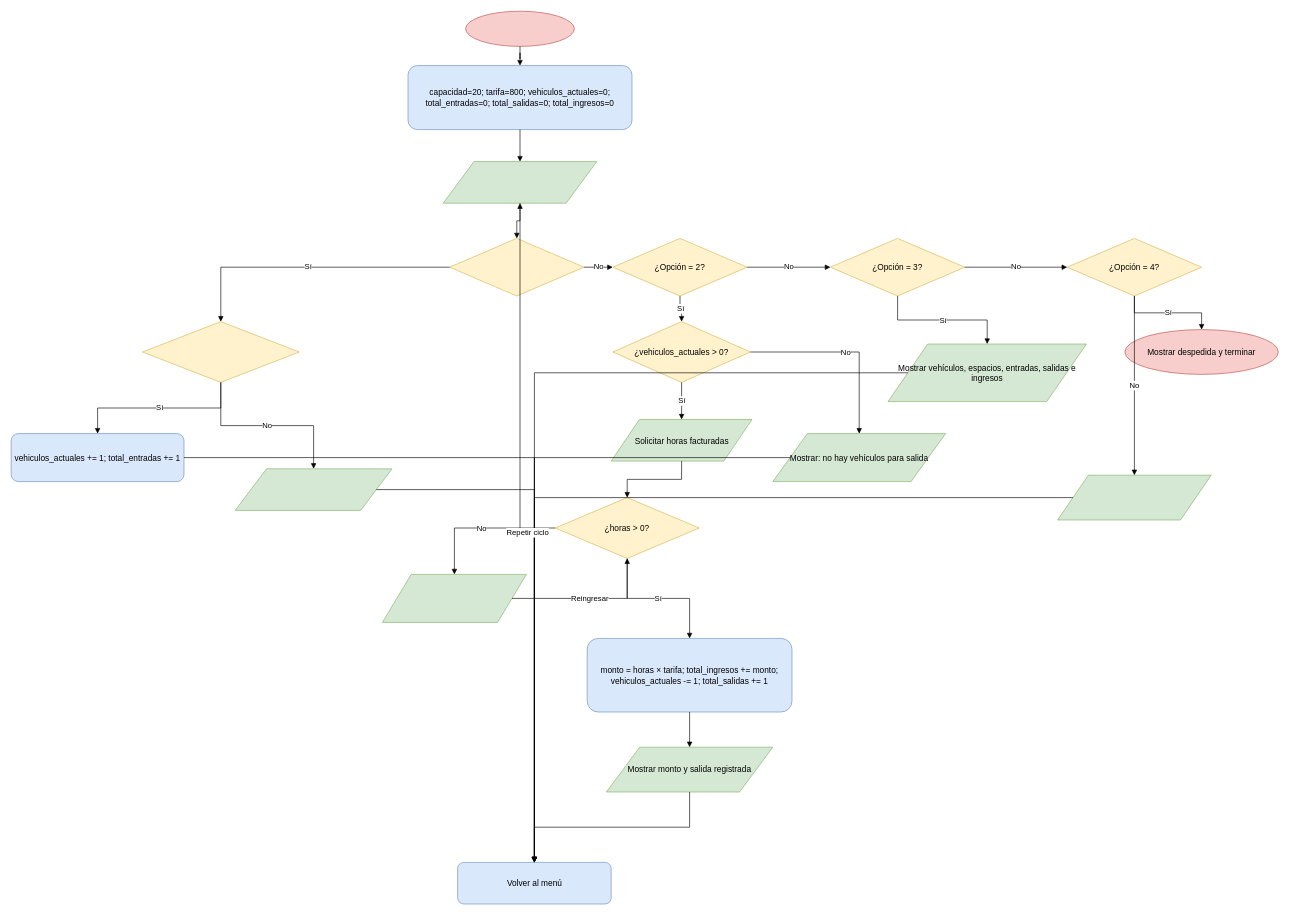
Some shapes in this 1290 by 915 pixel diagram are drawn without their labels. The box of each missing label's shape, as (x1, y1, x2, y2) in pixels:
Inicio: (465, 11, 574, 46)
Mostrar error y volver a solicitar horas: (382, 574, 526, 622)
Mostrar menú y leer opción: (443, 161, 597, 203)
Mostrar opción no válida: (1057, 475, 1211, 520)
Mostrar: estacionamiento lleno: (235, 468, 392, 510)
¿Opción = 1?: (449, 238, 584, 296)
¿vehiculos_actuales < capacidad?: (142, 321, 299, 382)
